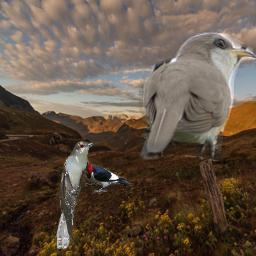Cuckoo: (138, 32, 256, 161), (55, 140, 96, 249)
Woodpecker: (68, 158, 133, 194)
